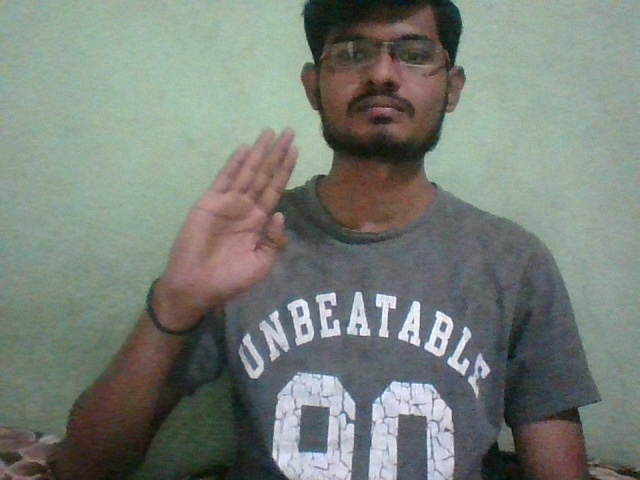Hello: (165, 126, 307, 299)
